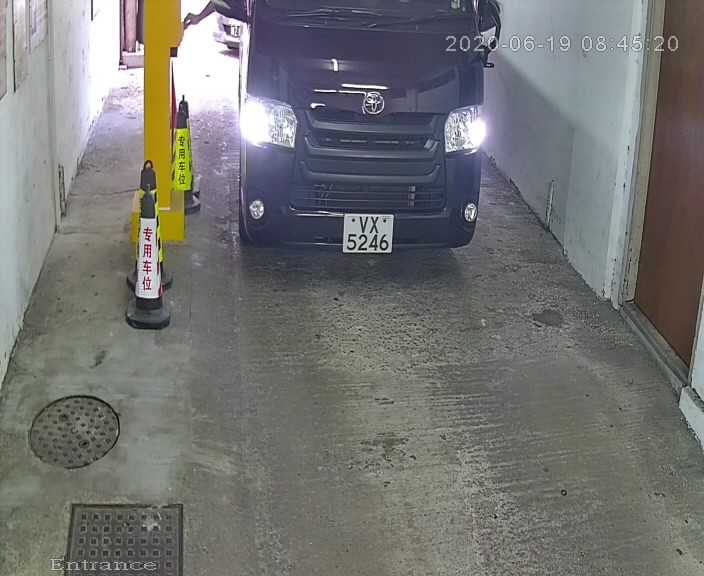bottom_left_lp: (341, 246, 348, 254)
bottom_left_radiator: (300, 145, 313, 152)
bottom_right_lp: (386, 248, 394, 254)
bottom_right_radiator: (423, 145, 433, 156)
brand: (360, 88, 386, 115)
left_headlight: (237, 89, 297, 155)
right_headlight: (445, 102, 485, 158)
top_left_lp: (342, 209, 350, 217)
top_left_radiator: (304, 103, 316, 114)
top_right_lp: (389, 209, 394, 222)
top_right_radiator: (431, 113, 440, 123)
